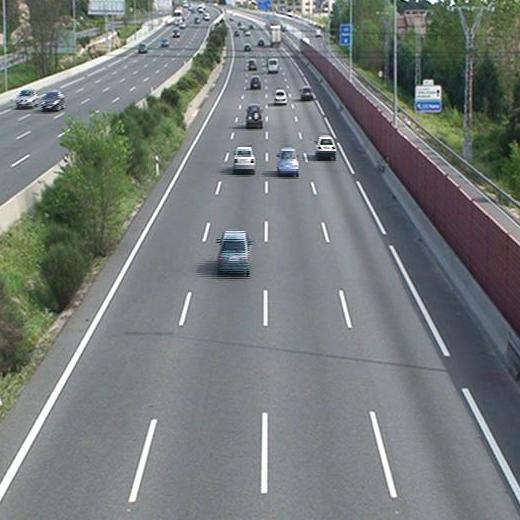car: (215, 230, 252, 272), (274, 148, 301, 174), (231, 145, 258, 170), (313, 134, 338, 158), (245, 103, 264, 127), (272, 88, 289, 105), (249, 75, 263, 91), (300, 85, 314, 100), (247, 59, 258, 71)
truck: (271, 26, 281, 48)
van: (267, 56, 279, 73)
